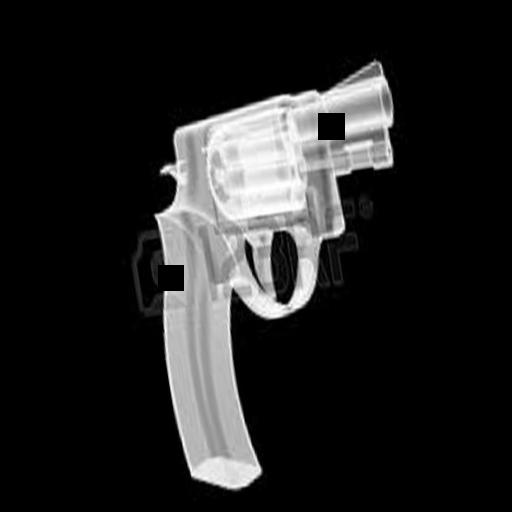Handgun: (112, 46, 446, 498)
